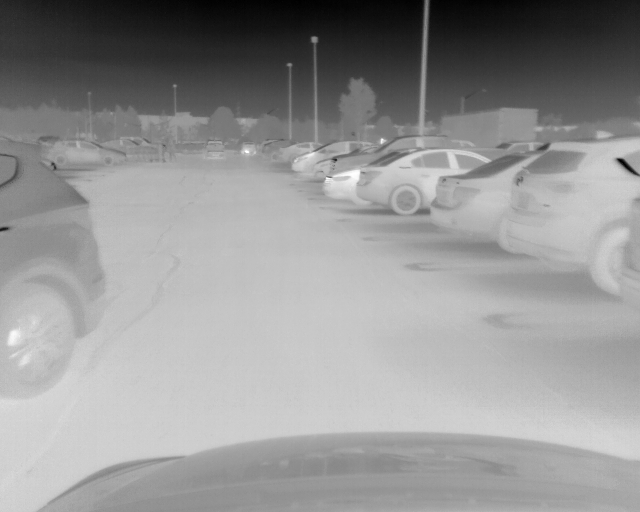car: (1, 136, 106, 402), (502, 137, 640, 300), (323, 133, 477, 207), (429, 149, 537, 252), (356, 146, 494, 212), (290, 139, 374, 180), (39, 137, 126, 167), (108, 136, 170, 162), (274, 142, 325, 165), (261, 138, 298, 157), (203, 140, 227, 161), (238, 140, 257, 157)
